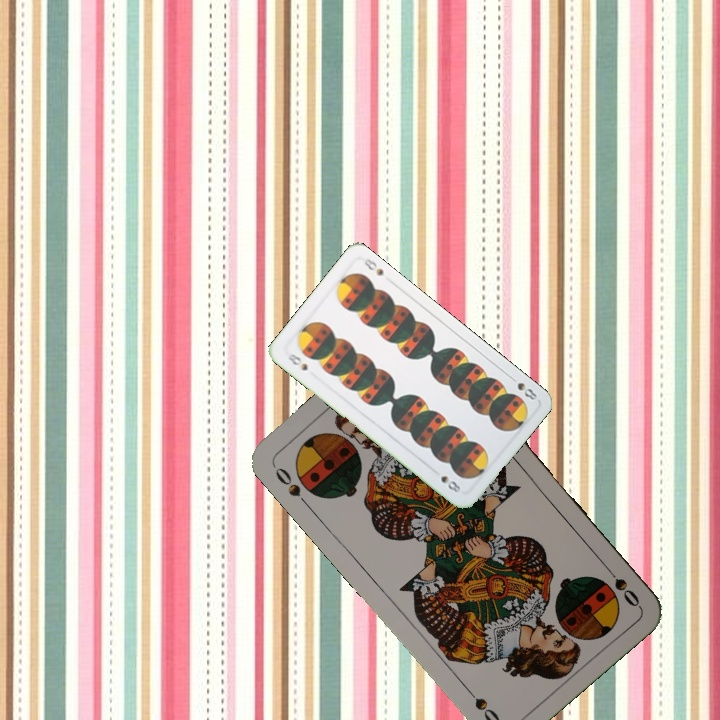S8: (505, 372, 540, 403), (284, 349, 310, 374)
SO: (599, 560, 642, 610), (269, 462, 313, 510)
